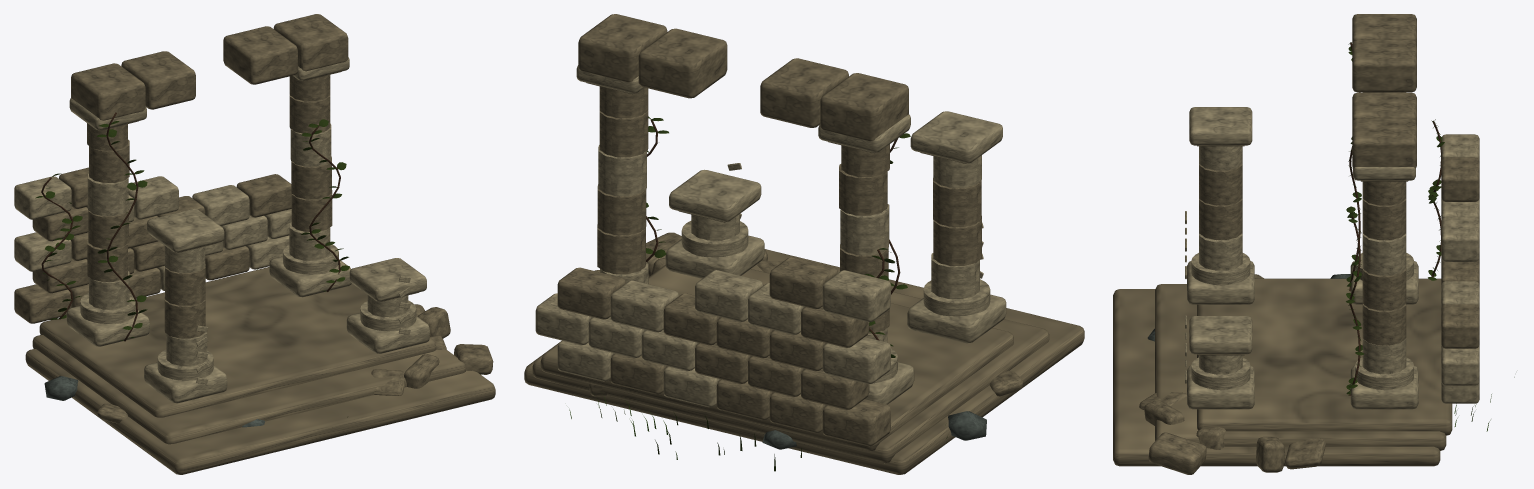
The model's file is 04_ancient_ruins.glb.
3 renders of one model, left to right at view 1: azimuth 30°, elevation 25°; view 2: azimuth 150°, elevation 25°; view 3: azimuth 270°, elevation 25°, orthographic. The views are drawn at different scales.
Parts seen in each view (by area): view 1: 04_ancient_ruins | Ruins | aged sandstone, 04_ancient_ruins | Ruins | pale broken stone, Ruins | grass and climbing ivy, 04_ancient_ruins | Hill | weathered slate; view 2: 04_ancient_ruins | Ruins | aged sandstone, 04_ancient_ruins | Ruins | pale broken stone, Ruins | grass and climbing ivy, 04_ancient_ruins | Hill | weathered slate; view 3: 04_ancient_ruins | Ruins | aged sandstone, 04_ancient_ruins | Ruins | pale broken stone, Ruins | grass and climbing ivy.
Boxes of the visible parts, <box> form: 04_ancient_ruins | Ruins | aged sandstone: <box>14,14,495,474</box>; 04_ancient_ruins | Ruins | pale broken stone: <box>14,57,429,403</box>; Ruins | grass and climbing ivy: <box>35,112,349,417</box>; 04_ancient_ruins | Hill | weathered slate: <box>44,376,264,427</box>; 04_ancient_ruins | Ruins | aged sandstone: <box>524,14,1084,474</box>; 04_ancient_ruins | Ruins | pale broken stone: <box>535,65,1006,407</box>; Ruins | grass and climbing ivy: <box>569,116,947,471</box>; 04_ancient_ruins | Hill | weathered slate: <box>762,411,986,449</box>; 04_ancient_ruins | Ruins | aged sandstone: <box>1113,14,1479,474</box>; 04_ancient_ruins | Ruins | pale broken stone: <box>1185,107,1479,409</box>; Ruins | grass and climbing ivy: <box>1346,42,1514,431</box>.
Bounding box in the file's own units: 5.66 × 4.28 × 5.09.
Materials: 6 (6 with a texture image).
